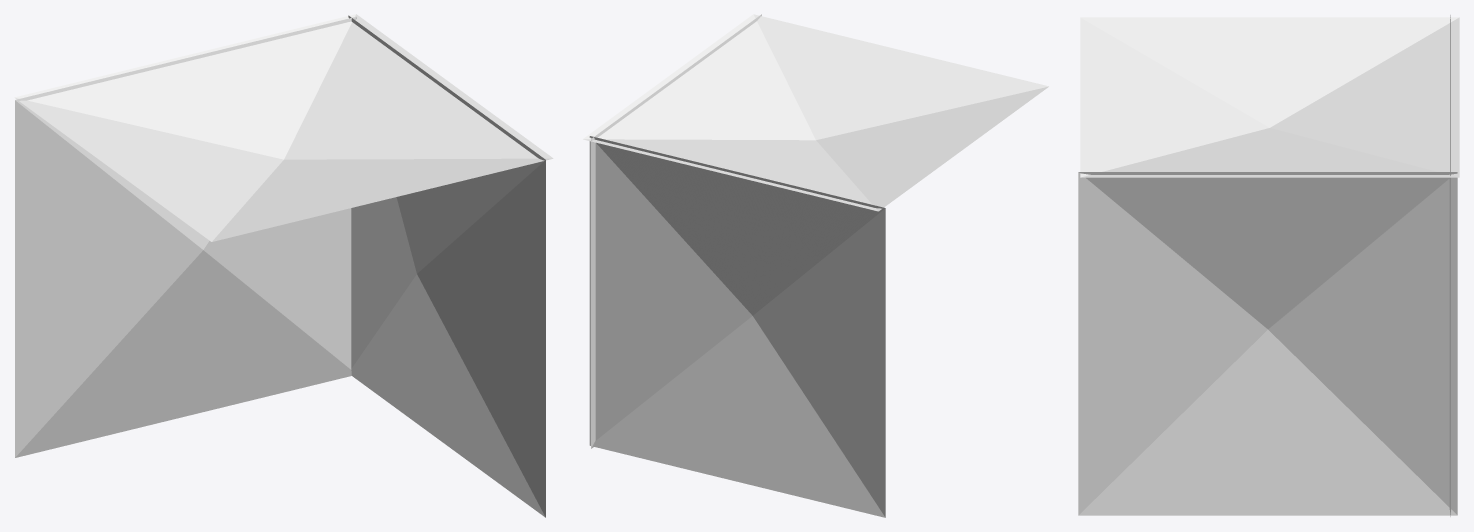
File: Spiderweb (Bunch).fbx
3 views of the same model, side by side, from view 1: azimuth 30°, elevation 25°; view 2: azimuth 150°, elevation 25°; view 3: azimuth 270°, elevation 25° (orthographic). The views are drawn at different scales.
Visible parts, largest first — view 1: Spiderweb (Bunch); view 2: Spiderweb (Bunch); view 3: Spiderweb (Bunch).
Part boxes in pixels (left/top/right/bottom): Spiderweb (Bunch): left=14, top=14, right=553, bottom=517; Spiderweb (Bunch): left=583, top=14, right=1048, bottom=517; Spiderweb (Bunch): left=1078, top=15, right=1459, bottom=516.
Size of the model in its own units: 0.825 by 0.8161 by 0.8201.
